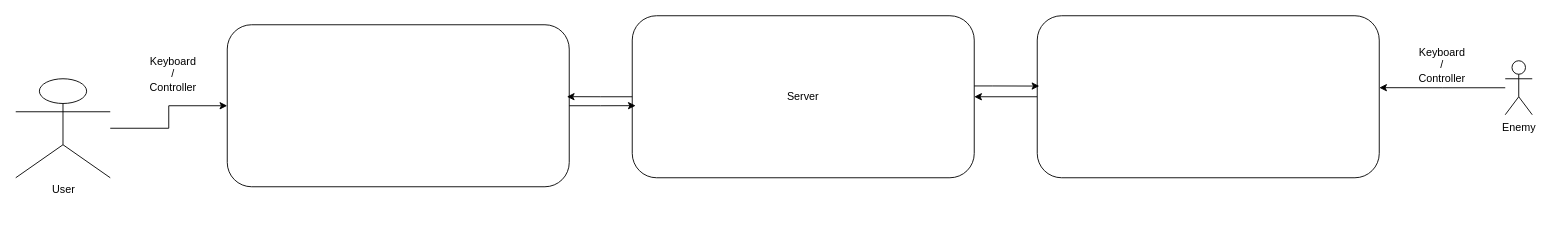
This 1551x226 diagram has some shape labels left out. Each missing label, with the centre of its shape:
"Enemy Client" goes at (1207,96).
"User Client" goes at (397,105).
